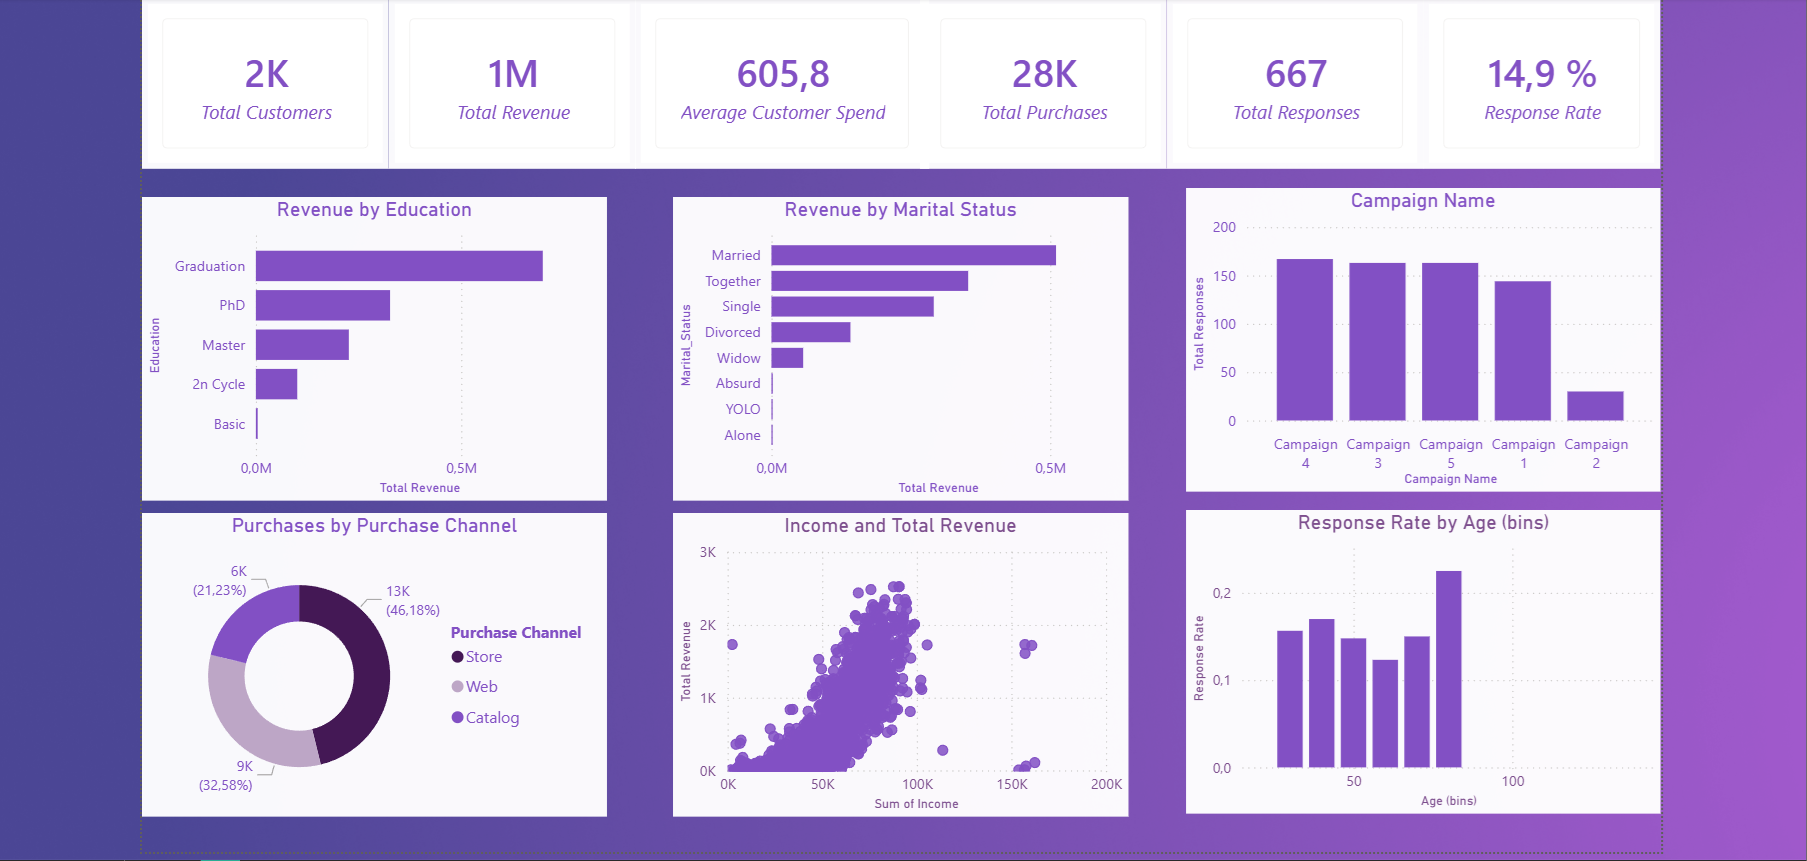

The dashboard page shown, as its layout file describes it:
{"tool":"powerbi","page":{"name":"Page 1","canvas":[1280,720],"ordinal":0},"visuals":[{"type":"cardVisual","fields":{"Data":["Marketing Campaign.Total Customers"]},"box":[0,0,208,144],"z":0},{"type":"cardVisual","fields":{"Data":["Marketing Campaign.Total Revenue"]},"box":[208,0,208,144],"z":1000},{"type":"cardVisual","fields":{"Data":["Marketing Campaign.Average Customer Spend"]},"box":[416,0,248,144],"z":2000},{"type":"cardVisual","fields":{"Data":["Dim_Purchases.Total Purchases"]},"box":[656,0,208,144],"z":3000},{"type":"cardVisual","fields":{"Data":["Dim_Campaigns.Total Responses"]},"box":[864,0,216,144],"z":4000},{"type":"cardVisual","fields":{"Data":["Marketing Campaign.Response Rate"]},"box":[1080,0,200,144],"z":5000},{"type":"clusteredBarChart","title":"Revenue by Education","fields":{"Category":["Marketing Campaign.Education"],"Y":["Marketing Campaign.Total Revenue"]},"box":[0,168,392,256],"z":6000},{"type":"clusteredBarChart","title":"Revenue by Marital Status","fields":{"Category":["Marketing Campaign.Marital_Status"],"Y":["Marketing Campaign.Total Revenue"]},"box":[448,168,384,256],"z":7000},{"type":"clusteredColumnChart","title":"Campaign Name","fields":{"Category":["Dim_Campaigns.Campaign Name"],"Y":["Dim_Campaigns.Total Responses"]},"box":[880,160,400,256],"z":8000},{"type":"donutChart","title":"Purchases by Purchase Channel","fields":{"Category":["Dim_Purchases.Purchase Channel"],"Y":["Dim_Purchases.Total Purchases"]},"box":[0,434,392,256],"z":9000},{"type":"scatterChart","title":"Income and Total Revenue","fields":{"Category":["Marketing Campaign.ID"],"X":["Sum(Marketing Campaign.Income)"],"Y":["Marketing Campaign.Total Revenue"]},"box":[448,434,384,256],"z":9001},{"type":"clusteredColumnChart","fields":{"Category":["Marketing Campaign.Age (bins)"],"Y":["Marketing Campaign.Response Rate"]},"box":[880,432,400,256],"z":9002}]}

Visuals, with their boxes in screenshot pixels (x1, y1, x2, y2):
cardVisual - Marketing Campaign.Total Customers: [141,0,387,165]
cardVisual - Marketing Campaign.Total Revenue: [387,0,632,165]
cardVisual - Marketing Campaign.Average Customer Spend: [632,0,924,165]
cardVisual - Dim_Purchases.Total Purchases: [915,0,1160,165]
cardVisual - Dim_Campaigns.Total Responses: [1160,0,1415,165]
cardVisual - Marketing Campaign.Response Rate: [1415,0,1651,165]
"Revenue by Education" clusteredBarChart: [141,193,604,495]
"Revenue by Marital Status" clusteredBarChart: [670,193,1123,495]
"Campaign Name" clusteredColumnChart: [1179,184,1651,486]
"Purchases by Purchase Channel" donutChart: [141,507,604,809]
"Income and Total Revenue" scatterChart: [670,507,1123,809]
clusteredColumnChart - Marketing Campaign.Age (bins) x Marketing Campaign.Response Rate: [1179,505,1651,807]
